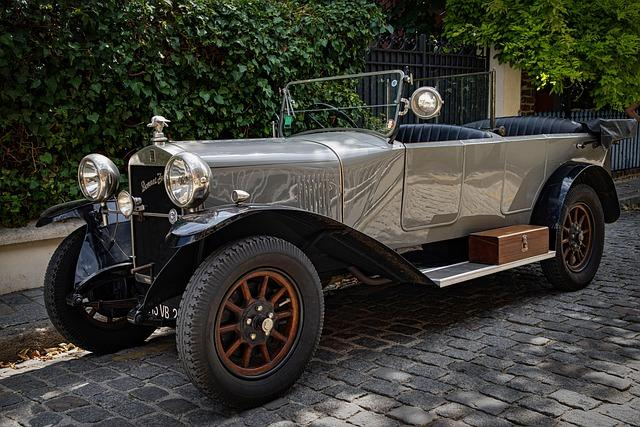Non_Gorille: (26, 7, 633, 418)
